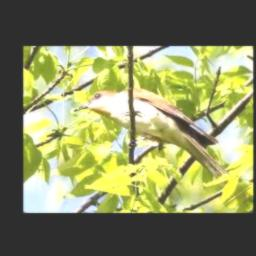Cuckoo: (74, 89, 234, 190)
